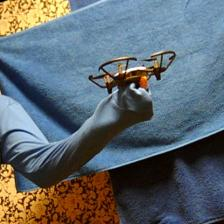drone: (88, 52, 178, 92)
